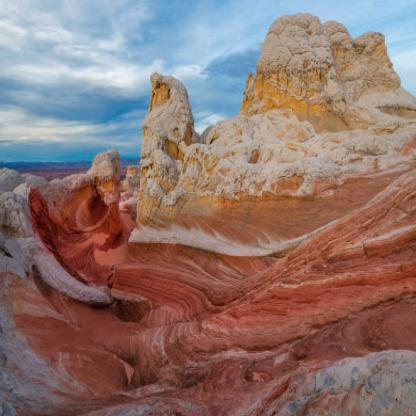Sedimentary_Sandstone: (206, 122, 317, 236), (244, 13, 353, 125), (320, 99, 416, 217), (138, 67, 199, 244), (308, 340, 415, 415), (0, 166, 59, 276), (344, 24, 402, 116), (86, 138, 127, 218)
